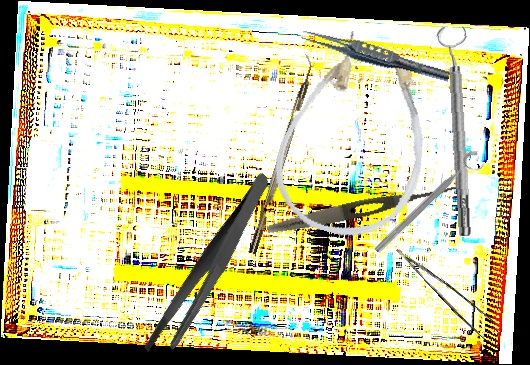Cannula: (261, 20, 453, 252)
Chopper: (238, 53, 320, 255)
Dressing Forceps: (111, 172, 309, 363), (265, 177, 460, 239)
Fixation Ring: (370, 146, 490, 263), (436, 25, 480, 238)
Tissue Forceps: (396, 234, 503, 347), (298, 25, 453, 86)
